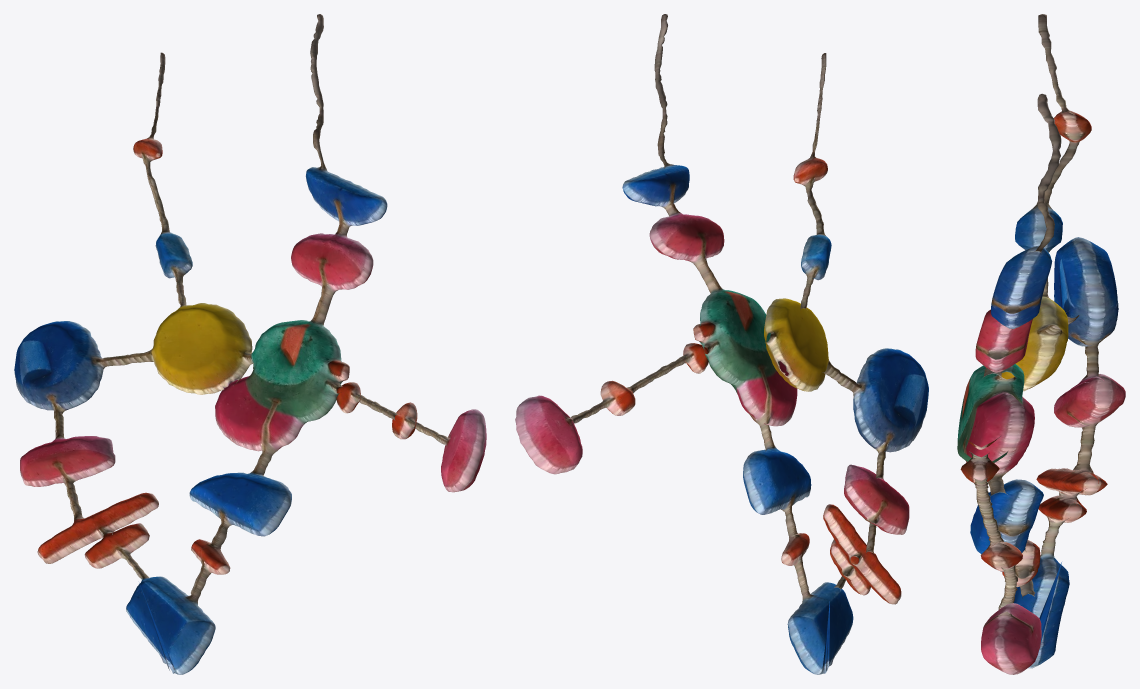
Rendered from hy3d-mov-033.glb.
3 views of the same model, side by side, from view 1: azimuth 30°, elevation 25°; view 2: azimuth 150°, elevation 25°; view 3: azimuth 270°, elevation 25° (orthographic). The views are drawn at different scales.
Visible parts, largest first — view 1: world; view 2: world; view 3: world.
Part boxes in pixels (box(x1,y1,x2,y2)): world: box(14, 14, 486, 674); world: box(515, 14, 928, 674); world: box(957, 14, 1125, 674).
Bounding box in the file's own units: 1.67 × 2.27 × 0.5338.
Materials: 1 (1 with a texture image).
